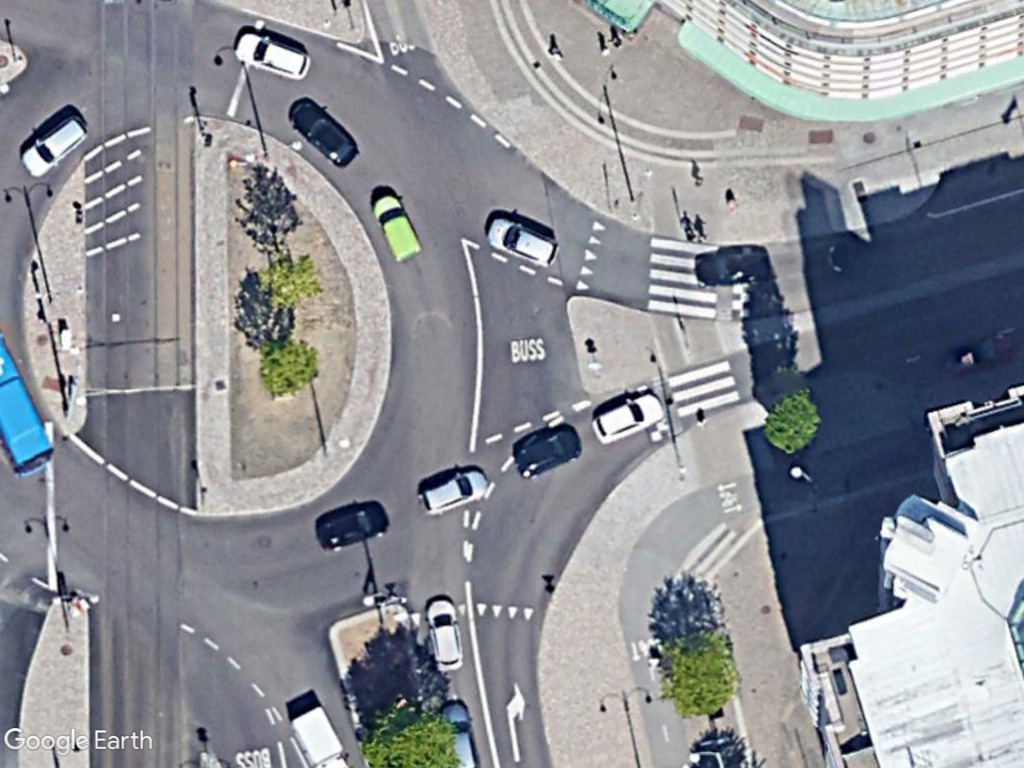car: (16, 104, 91, 185), (285, 96, 364, 171), (589, 382, 669, 448), (485, 212, 568, 271), (226, 28, 314, 83), (312, 497, 390, 555), (510, 419, 586, 478), (413, 463, 493, 517), (423, 592, 468, 677)
van: (371, 189, 423, 268)
